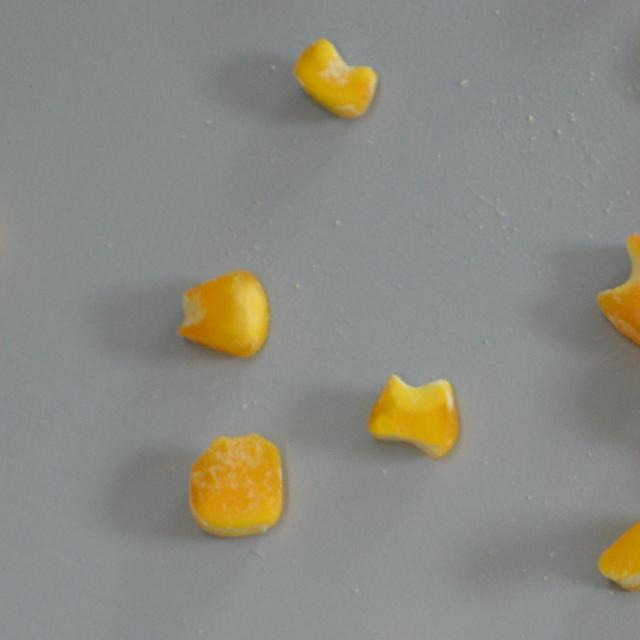estandar: (594, 502, 640, 591)
no_canjicado: (174, 266, 270, 358), (362, 370, 459, 460)
pelicula: (186, 430, 286, 539), (292, 36, 378, 120), (592, 228, 640, 356)
